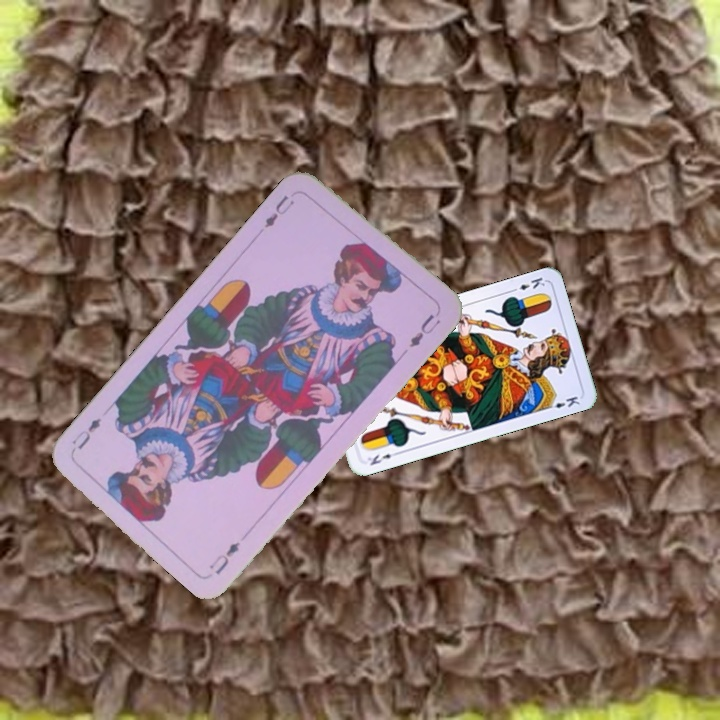EK: (507, 273, 547, 295), (363, 447, 401, 468)
EU: (205, 537, 243, 578), (259, 191, 297, 231)
